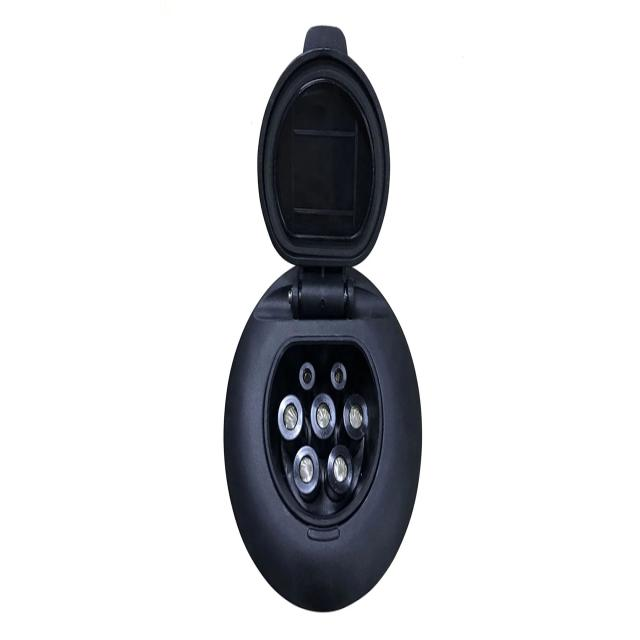Type 2: (262, 331, 392, 547)
